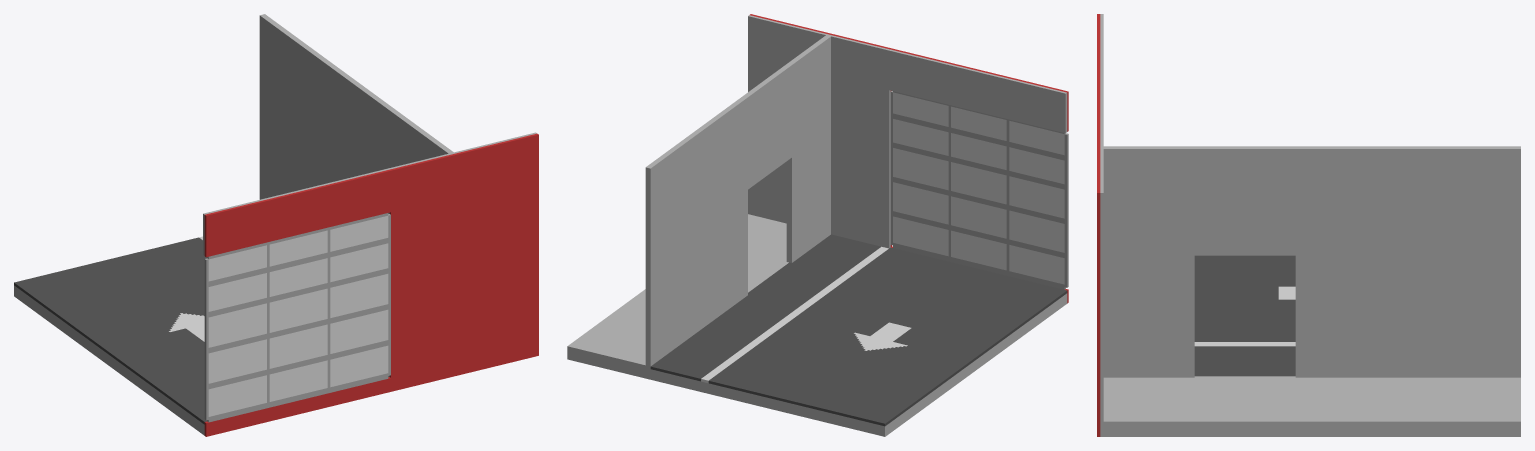
File: 4x2 first-3.obj
3 views of the same model, side by side, from view 1: azimuth 30°, elevation 25°; view 2: azimuth 150°, elevation 25°; view 3: azimuth 270°, elevation 25° (orthographic). The views are drawn at different scales.
Parts seen in each view (by area): view 1: 4x2 first-3; view 2: 4x2 first-3; view 3: 4x2 first-3.
Part boxes in pixels (box(x1,y1,x2,y2)): 4x2 first-3: box(14, 14, 538, 436); 4x2 first-3: box(567, 14, 1068, 436); 4x2 first-3: box(1097, 14, 1520, 436).
Bounding box in the file's own units: 126 × 80 × 126.
1 material, 1 textured.
